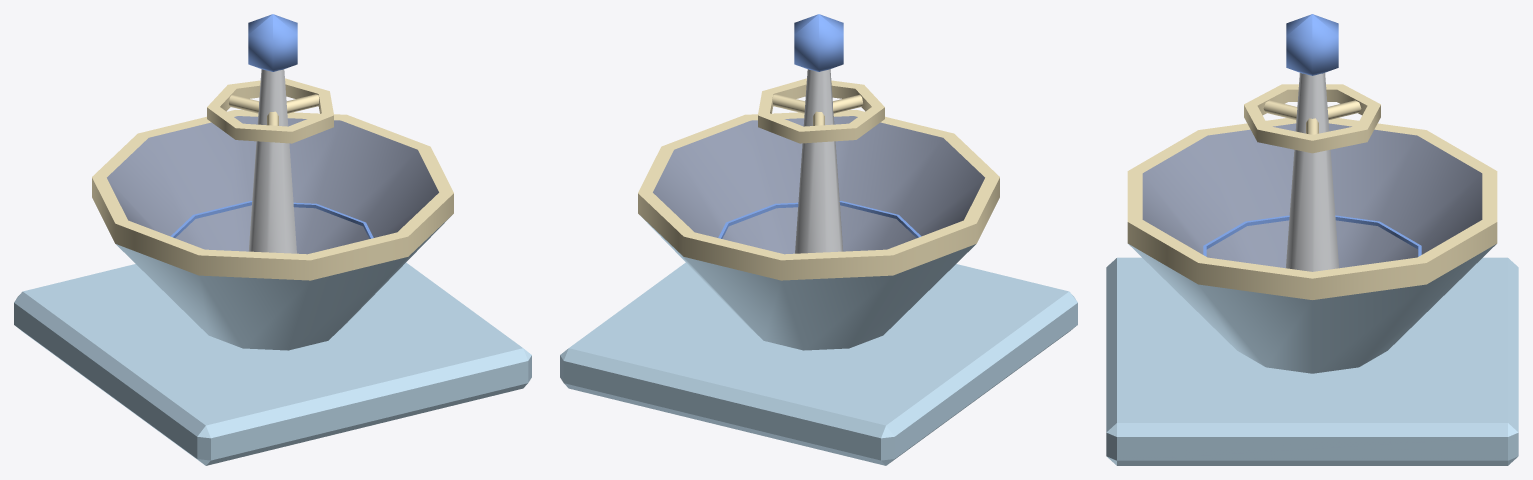
Rendered from R4X_ScannerPulse_LOD1.glb.
3 views of the same model, side by side, from view 1: azimuth 30°, elevation 25°; view 2: azimuth 150°, elevation 25°; view 3: azimuth 270°, elevation 25° (orthographic). The views are drawn at different scales.
Visible parts, largest first — view 1: R4X_ScannerPulse_LOD1; view 2: R4X_ScannerPulse_LOD1; view 3: R4X_ScannerPulse_LOD1.
Boxes of the visible parts, left/top/right/bottom form: R4X_ScannerPulse_LOD1: left=14, top=14, right=531, bottom=465; R4X_ScannerPulse_LOD1: left=560, top=14, right=1077, bottom=465; R4X_ScannerPulse_LOD1: left=1106, top=14, right=1518, bottom=465.
Bounding box in the file's own units: 0.52 × 0.514 × 0.52.
